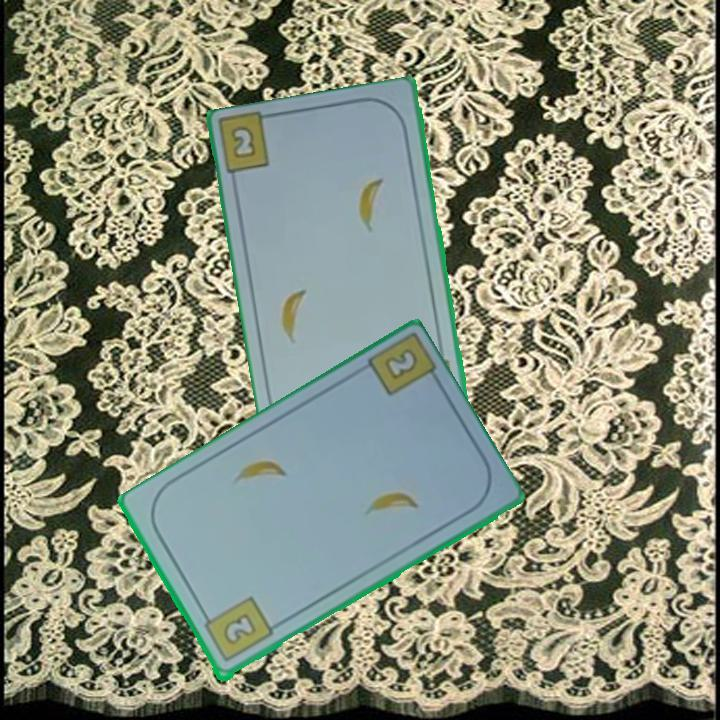2b: (199, 593, 276, 666), (227, 122, 260, 162), (384, 348, 418, 380)
